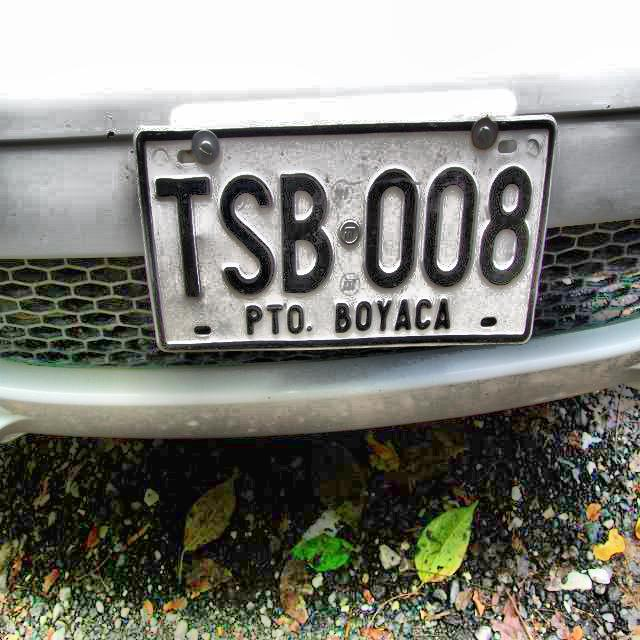plate: (133, 117, 558, 352)
